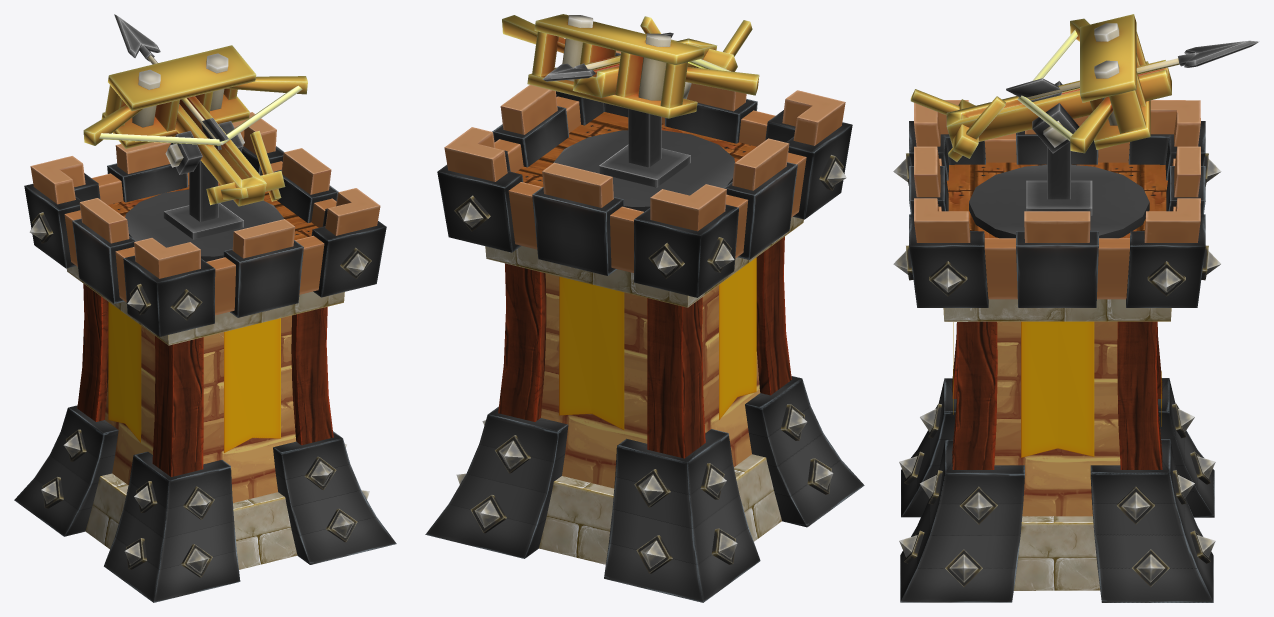
File: Ballista_Tower.FBX
3 views of the same model, side by side, from view 1: azimuth 30°, elevation 25°; view 2: azimuth 150°, elevation 25°; view 3: azimuth 270°, elevation 25° (orthographic). The views are drawn at different scales.
Visible parts, largest first — view 1: tower, Bow, Shaft; view 2: tower, Bow, Shaft; view 3: tower, Bow, Shaft.
Part boxes in pixels (x1,y1,x2,y2): tower: (14,112,396,602); Bow: (83,14,307,206); Shaft: (125,160,283,261); tower: (425,50,864,602); Bow: (502,14,759,118); Shaft: (553,109,734,211); tower: (893,100,1221,602); Bow: (910,14,1259,161); Shaft: (969,142,1149,238).
Size of the model in its own units: 1.53 by 2.55 by 1.71.
